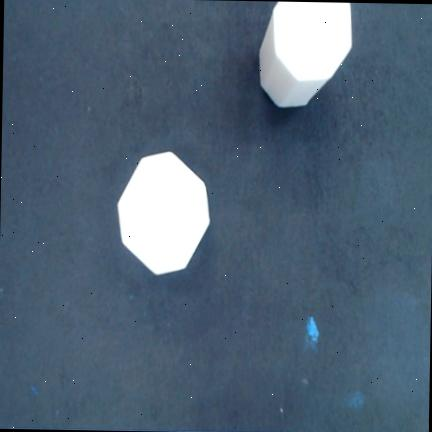Prisma_hexagonal: (118, 151, 209, 275), (259, 1, 351, 106)
